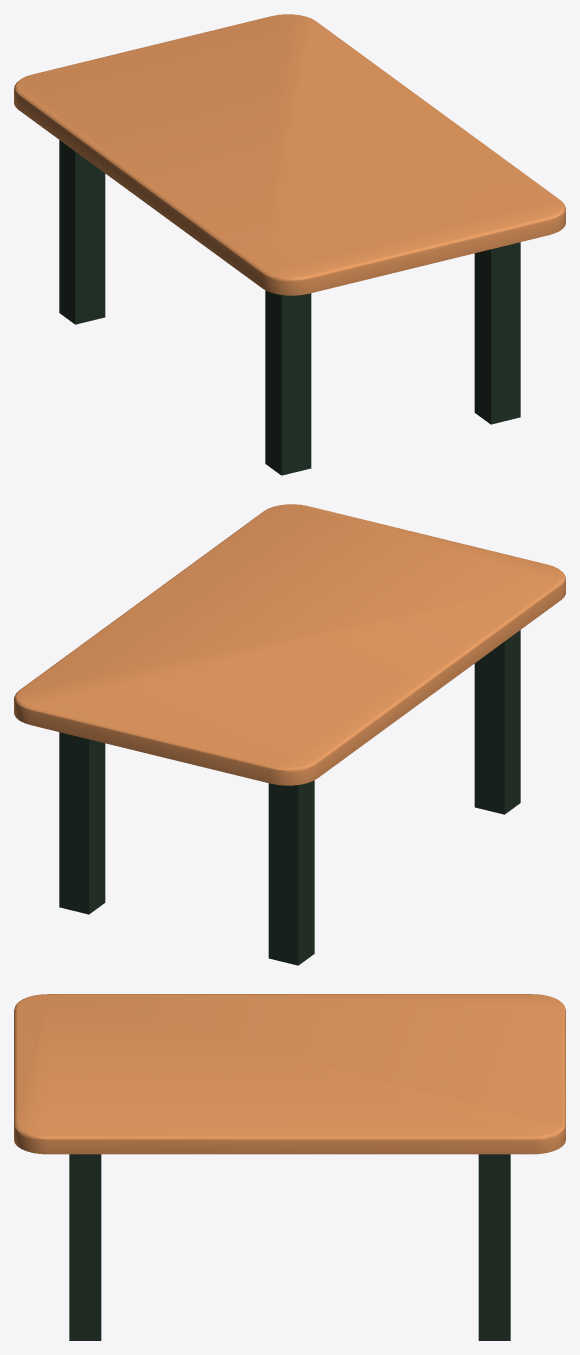
The model's file is MesaRectangular.fbx.
3 renders of one model, top to bottom at view 1: azimuth 30°, elevation 25°; view 2: azimuth 150°, elevation 25°; view 3: azimuth 270°, elevation 25°, orthographic.
Visible parts, largest first — view 1: Mesa; view 2: Mesa; view 3: Mesa.
Boxes of the visible parts, x1=… form: Mesa: x1=14, y1=14, x2=565, y2=475; Mesa: x1=14, y1=504, x2=565, y2=965; Mesa: x1=14, y1=994, x2=565, y2=1340.
Bounding box in the file's own units: 296 × 208 × 477.
